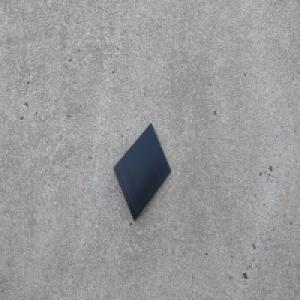PlasticPart: (112, 121, 171, 221)
